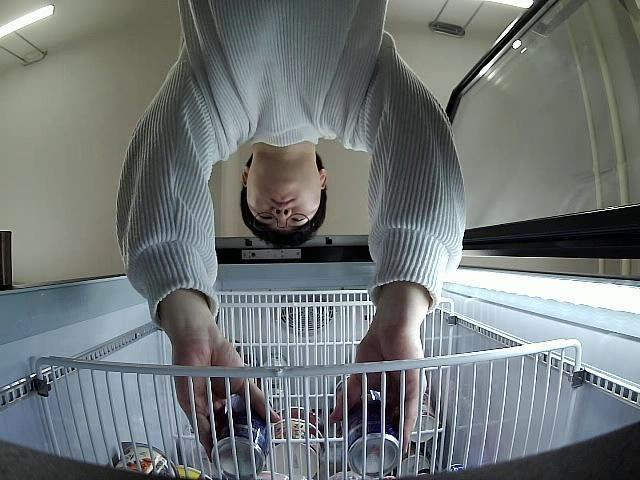16_hot6: (333, 376, 402, 477), (206, 392, 272, 476)
